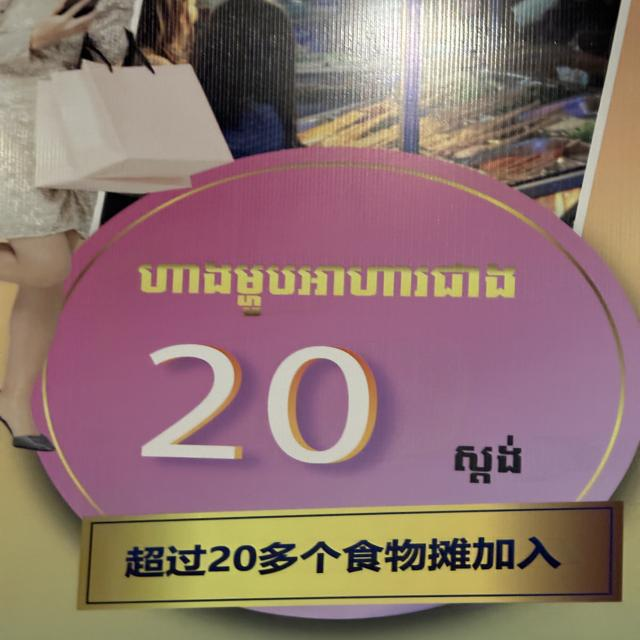639: (129, 341, 386, 471)
Yolov11_80vkh: (118, 248, 540, 331), (437, 432, 529, 490)
